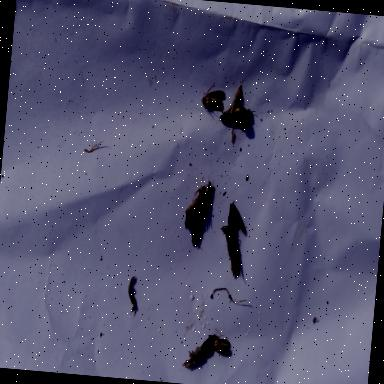pbw: (182, 178, 214, 228), (224, 195, 252, 242), (218, 219, 244, 268), (181, 334, 214, 372), (198, 80, 228, 119), (189, 183, 206, 244), (224, 80, 248, 122), (220, 102, 258, 128), (210, 331, 234, 360)
